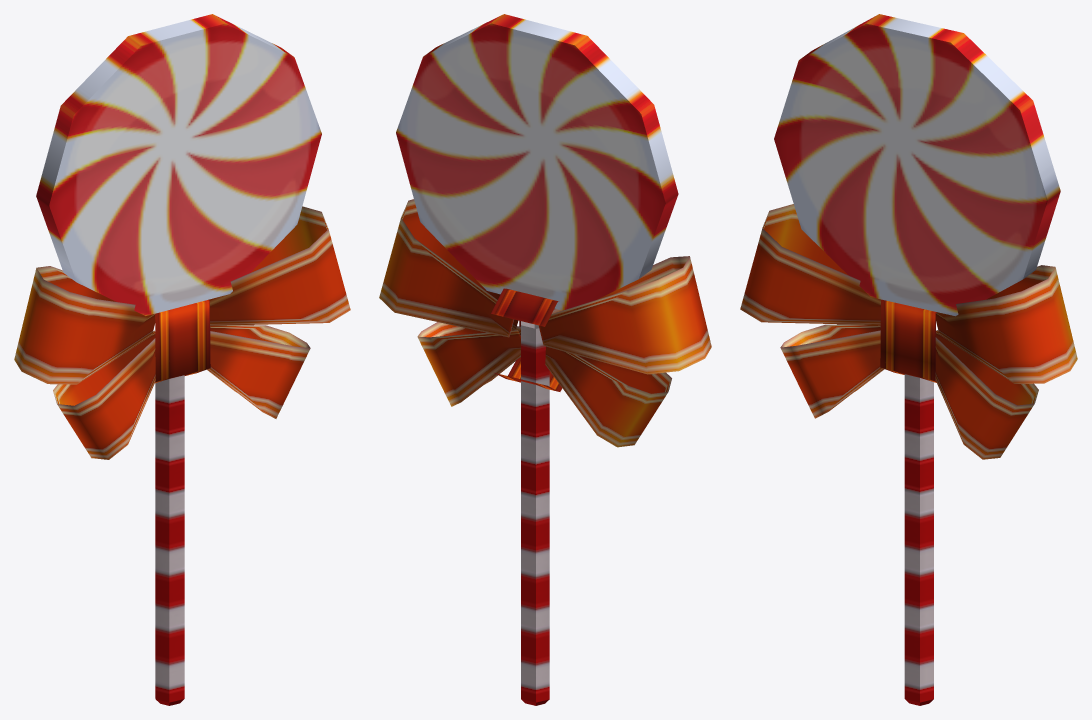
Rendered from candy.gltf.
3 renders of one model, left to right at view 1: azimuth 30°, elevation 25°; view 2: azimuth 150°, elevation 25°; view 3: azimuth 330°, elevation 25°, orthographic.
Visible parts, largest first — view 1: CandyCane_03; view 2: CandyCane_03; view 3: CandyCane_03.
Boxes of the visible parts, bbox=[...] form: CandyCane_03: bbox=[14, 14, 350, 705]; CandyCane_03: bbox=[379, 14, 711, 705]; CandyCane_03: bbox=[740, 14, 1077, 705].
Size of the model in its own units: 0.8103 by 1.63 by 0.2131.
Materials: 1 (1 with a texture image).
